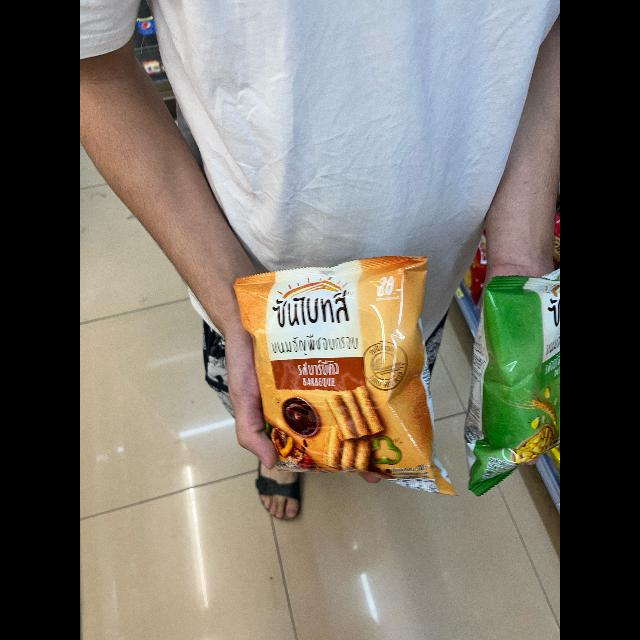snack_bag: (208, 256, 464, 502), (460, 260, 560, 502)
